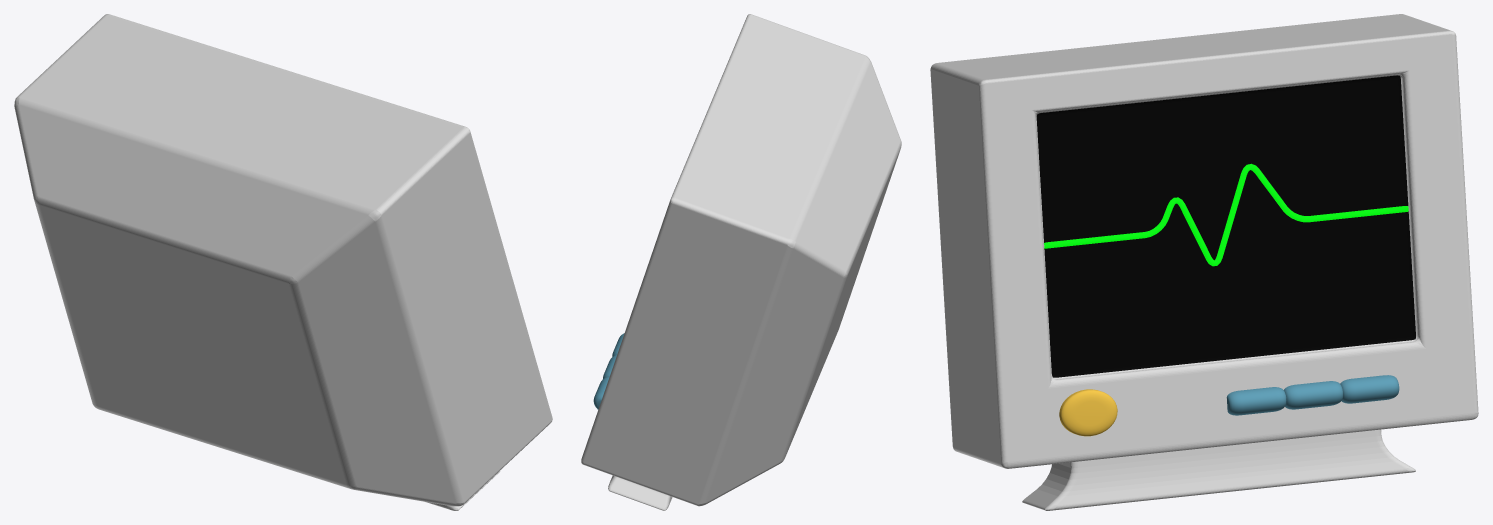
The model's file is Monitor.glb.
The picture shows the model from 3 angles, left to right: view 1: azimuth 30°, elevation 25°; view 2: azimuth 150°, elevation 25°; view 3: azimuth 270°, elevation 25°; orthographic projection. The views are drawn at different scales.
Visible parts, largest first — view 1: Cube.009; view 2: Cube.009; view 3: Cube.009, Vert.003, Cylinder.030, Cylinder.027, Cylinder.028, Cylinder.029.
Boxes of the visible parts, left/top/right/bottom form: Cube.009: left=14, top=14, right=552, bottom=510; Cube.009: left=581, top=14, right=901, bottom=510; Cube.009: left=930, top=14, right=1478, bottom=510; Vert.003: left=1044, top=163, right=1408, bottom=266; Cylinder.030: left=1059, top=389, right=1117, bottom=436; Cylinder.027: left=1226, top=387, right=1286, bottom=415; Cylinder.028: left=1284, top=381, right=1342, bottom=409; Cylinder.029: left=1340, top=375, right=1399, bottom=403.
Bounding box in the file's own units: 3.94 × 4.25 × 4.88.
